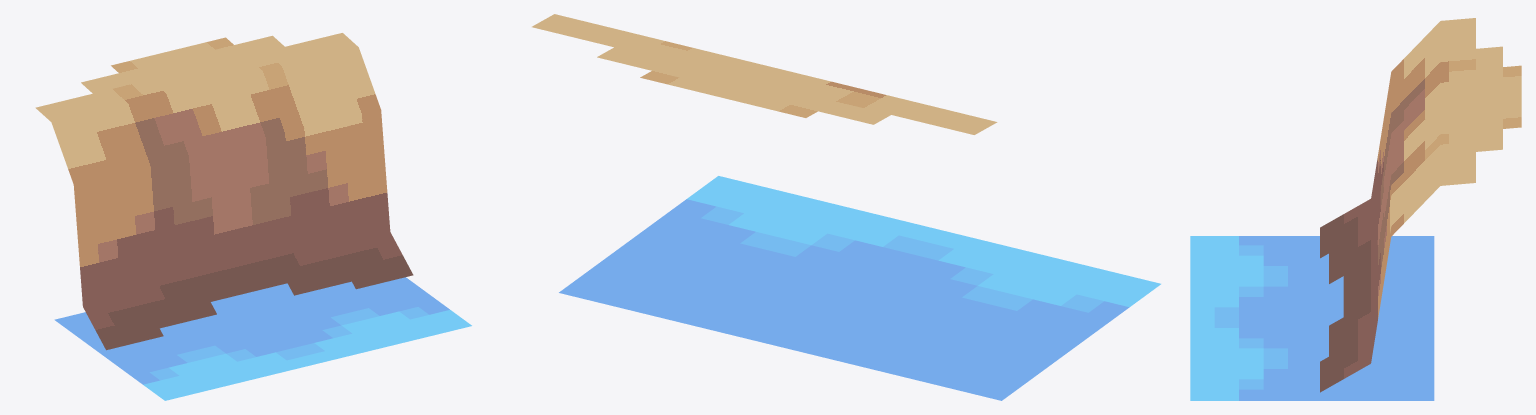
3 renders of one model, left to right at view 1: azimuth 30°, elevation 25°; view 2: azimuth 150°, elevation 25°; view 3: azimuth 270°, elevation 25°, orthographic. The views are drawn at different scales.
Size of the model in its own units: 1 by 0.627 by 0.8486.
2 materials, 2 textured.
